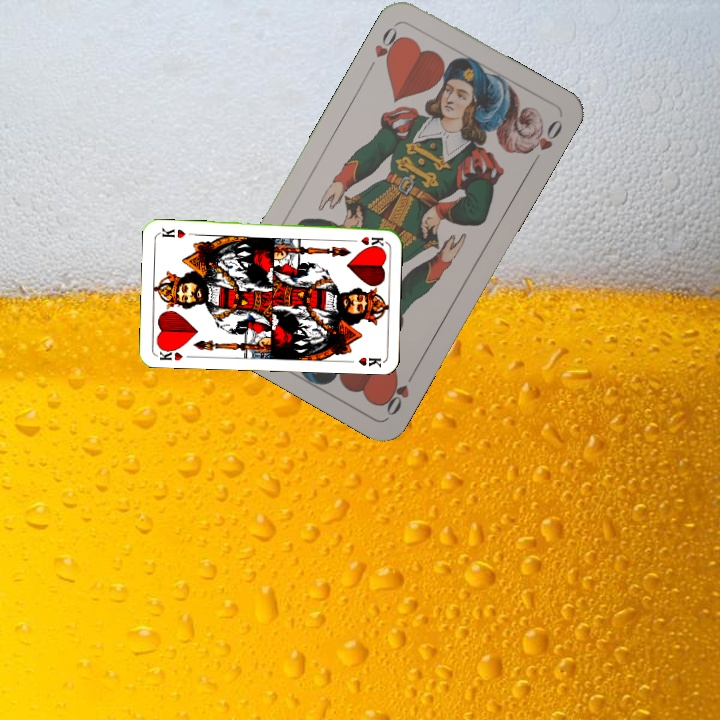HK: (346, 233, 386, 249), (154, 343, 185, 363)
HO: (363, 21, 406, 74), (378, 365, 419, 419)
